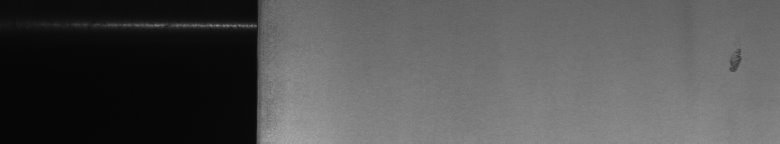fi: (725, 47, 745, 80)
